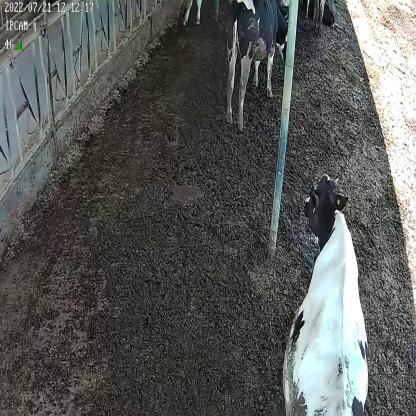cow: (281, 170, 369, 416), (223, 0, 288, 130)
